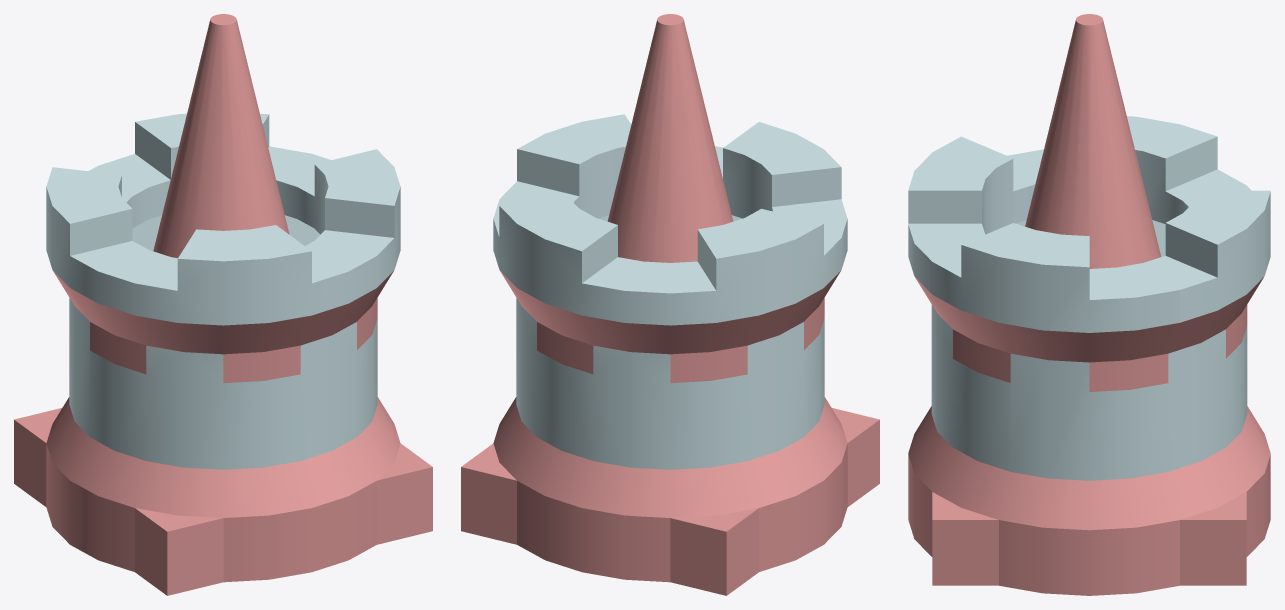
Rendered from towerRound_sampleB.glb.
3 views of the same model, side by side, from view 1: azimuth 30°, elevation 25°; view 2: azimuth 150°, elevation 25°; view 3: azimuth 270°, elevation 25° (orthographic). The views are drawn at different scales.
Visible parts, largest first — view 1: towerRound_sampleB; view 2: towerRound_sampleB; view 3: towerRound_sampleB.
Part boxes in pixels (box(x1,y1,x2,y2)): towerRound_sampleB: box(14, 14, 432, 595); towerRound_sampleB: box(461, 14, 879, 595); towerRound_sampleB: box(908, 14, 1270, 595).
Size of the model in its own units: 1 by 1.52 by 1.
